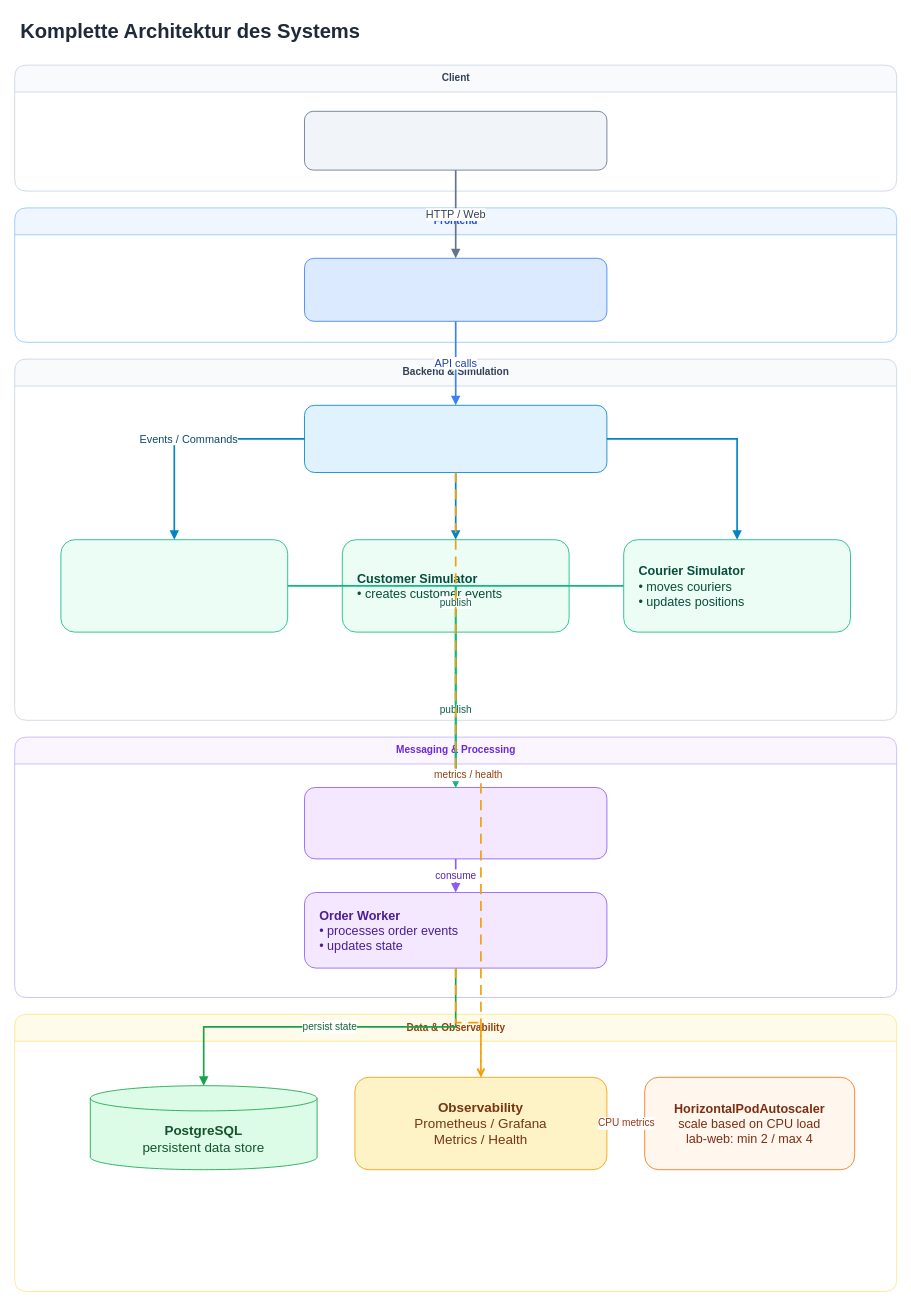
Image size: 911x1306. Some labels were removed from this diagram. The centre of each missing label's shape, as x and y in pixels:
Browser Dashboard / User: point 455,140
Control API REST / SSE / Health / Metrics: point 455,438
Nuxt Dashboard Frontend / Visualization: point 455,289
RabbitMQ Topic Exchange / Queues / Messaging: point 455,823
Restaurant Worker • creates orders • sends events: point 174,585
